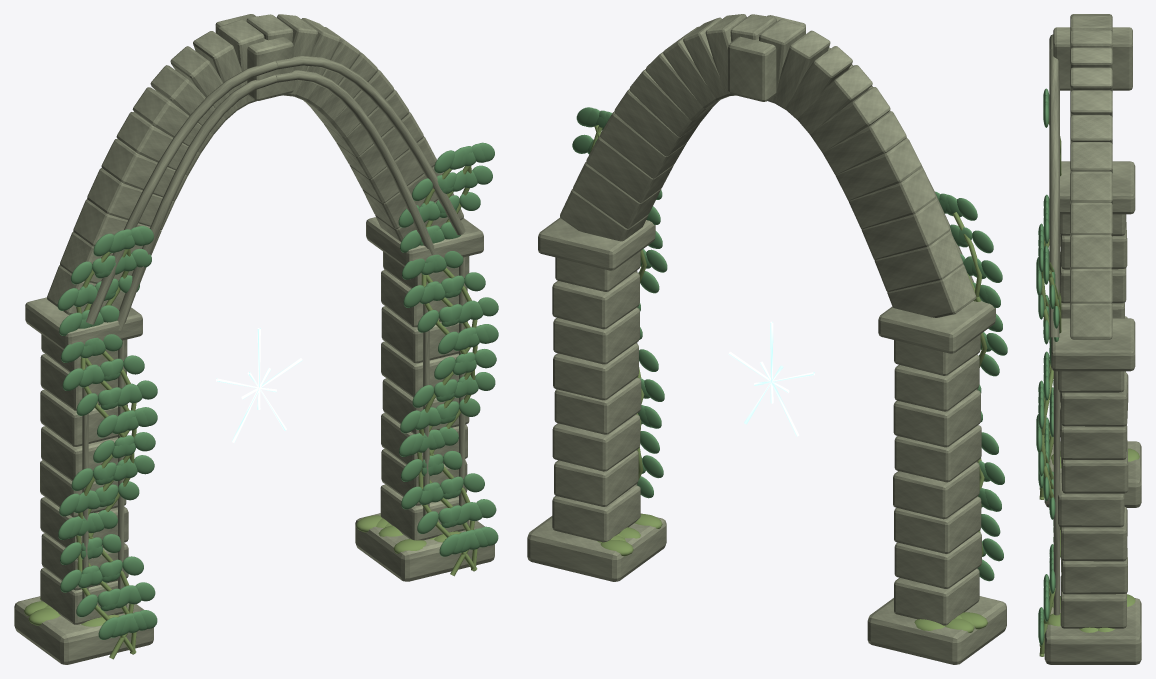
The model's file is evermere-arch.glb.
The picture shows the model from 3 angles, left to right: view 1: azimuth 30°, elevation 25°; view 2: azimuth 150°, elevation 25°; view 3: azimuth 270°, elevation 25°; orthographic projection. The views are drawn at different scales.
Visible parts, largest first — view 1: Column plinth; view 2: Column plinth; view 3: Column plinth.
Boxes of the visible parts, bbox=[...] form: Column plinth: bbox=[14, 14, 498, 664]; Column plinth: bbox=[527, 14, 1007, 664]; Column plinth: bbox=[1036, 14, 1141, 664].
Bounding box in the file's own units: 5.41 × 6.75 × 1.19.
4 materials, 1 textured.
